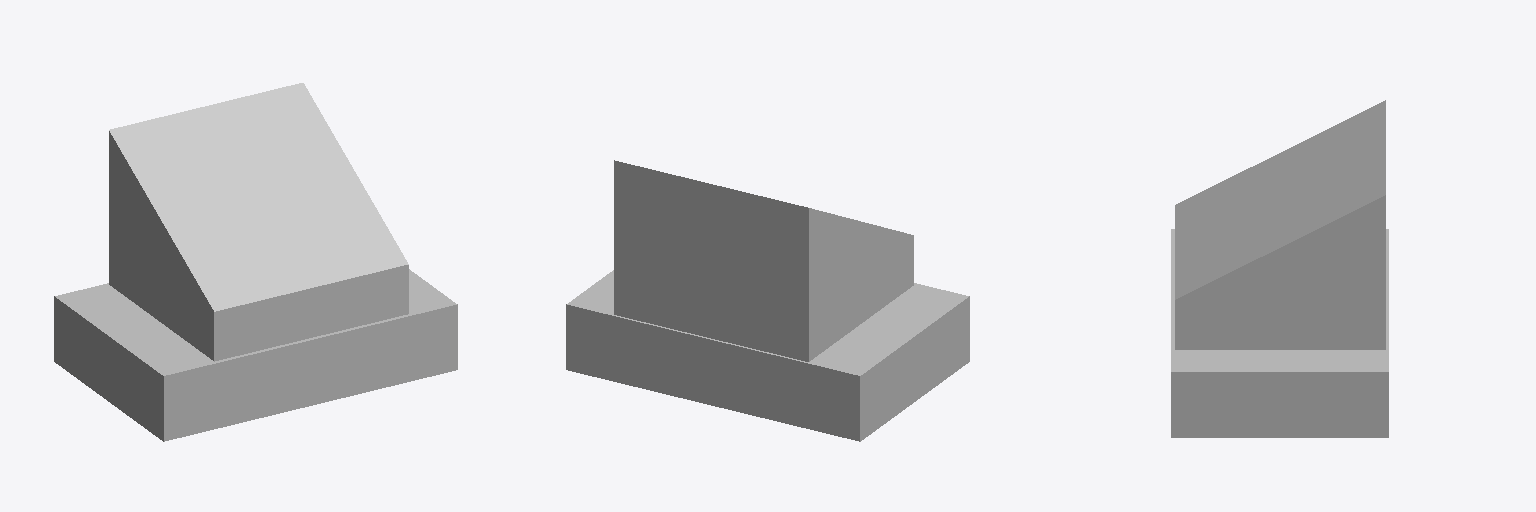
File: cashregister.obj
3 views of the same model, side by side, from view 1: azimuth 30°, elevation 25°; view 2: azimuth 150°, elevation 25°; view 3: azimuth 270°, elevation 25° (orthographic).
Parts seen in each view (by area): view 1: initialShadingGroup pCube3; view 2: initialShadingGroup pCube3; view 3: initialShadingGroup pCube3.
Boxes of the visible parts, box(x1,y1,x2,y2) form: initialShadingGroup pCube3: box(54, 83, 457, 441); initialShadingGroup pCube3: box(566, 160, 969, 441); initialShadingGroup pCube3: box(1171, 100, 1388, 437).
Size of the model in its own units: 2.14 by 1.53 by 1.37.